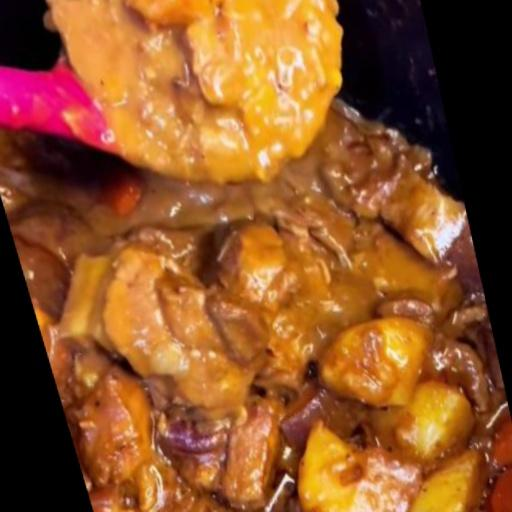pork caldereta: (4, 102, 511, 511)
